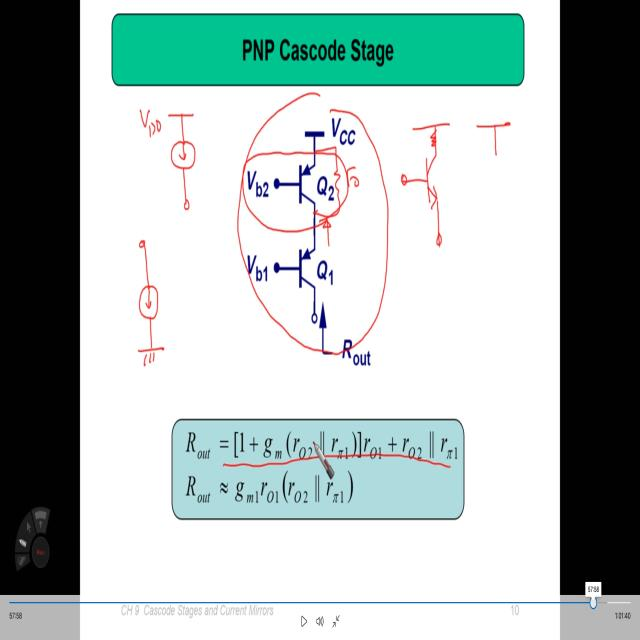panseo: (104, 81, 220, 418), (390, 93, 520, 274)
